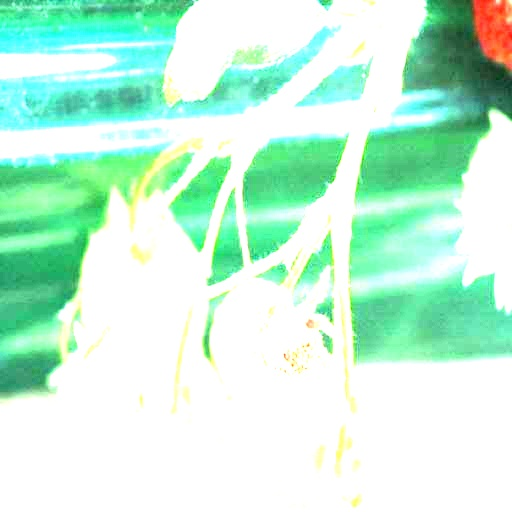Gray Mold: (257, 265, 342, 436)
